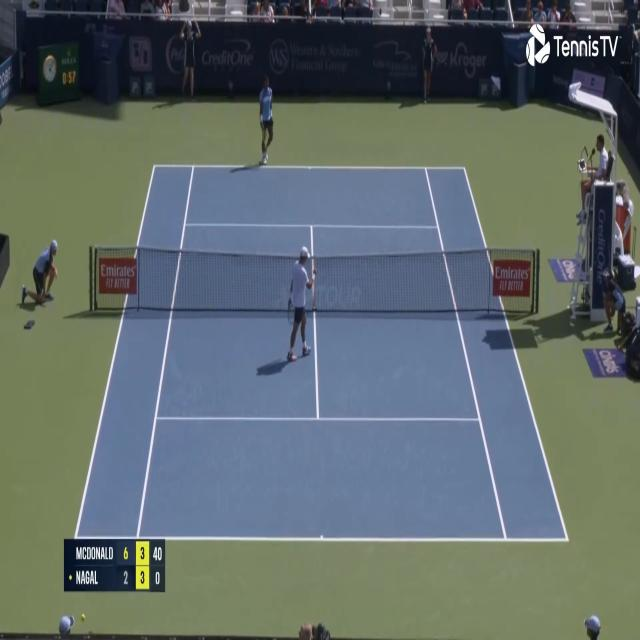tennis-player: (283, 244, 317, 368), (256, 73, 276, 166)
